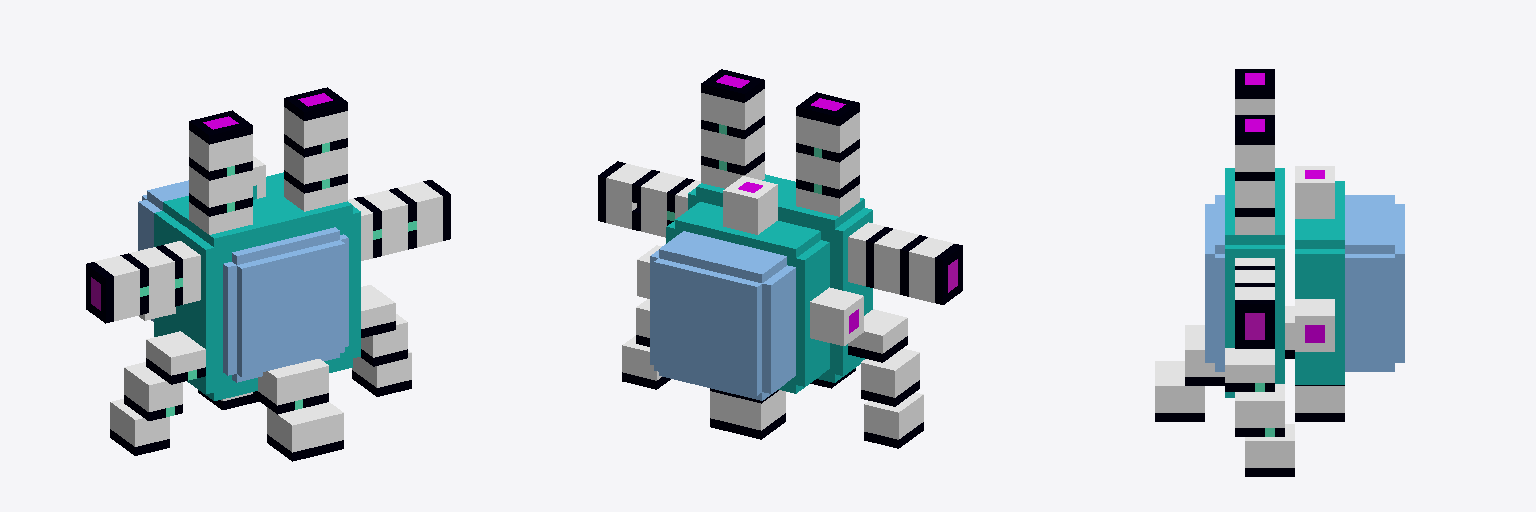
3 renders of one model, left to right at view 1: azimuth 30°, elevation 25°; view 2: azimuth 150°, elevation 25°; view 3: azimuth 270°, elevation 25°, orthographic.
Parts seen in each view (by area): view 1: object 1; view 2: object 1; view 3: object 1.
Part boxes in pixels (x1,y1,x2,y2): object 1: (86, 87, 450, 461); object 1: (598, 69, 962, 448); object 1: (1155, 69, 1404, 476).
Size of the model in its own units: 4 by 3.4 by 2.5.
1 materials, 1 textured.